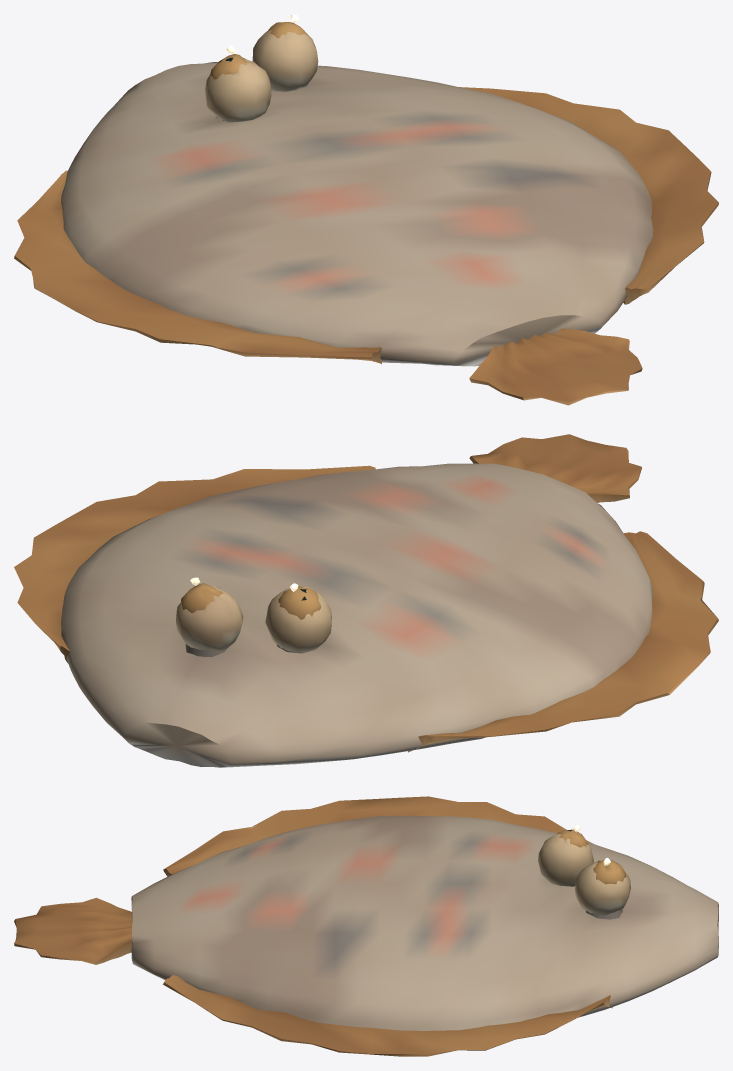
Rendered from flounder.glb.
3 renders of one model, top to bottom at view 1: azimuth 30°, elevation 25°; view 2: azimuth 150°, elevation 25°; view 3: azimuth 270°, elevation 25°, orthographic. The views are drawn at different scales.
Visible parts, largest first — view 1: flounder; view 2: flounder; view 3: flounder.
Boxes of the visible parts, box(x1,y1,x2,y2) form: flounder: box(14, 14, 718, 405); flounder: box(14, 434, 718, 767); flounder: box(14, 796, 718, 1056).
Size of the model in its own units: 0.5877 by 0.1287 by 0.6739.
